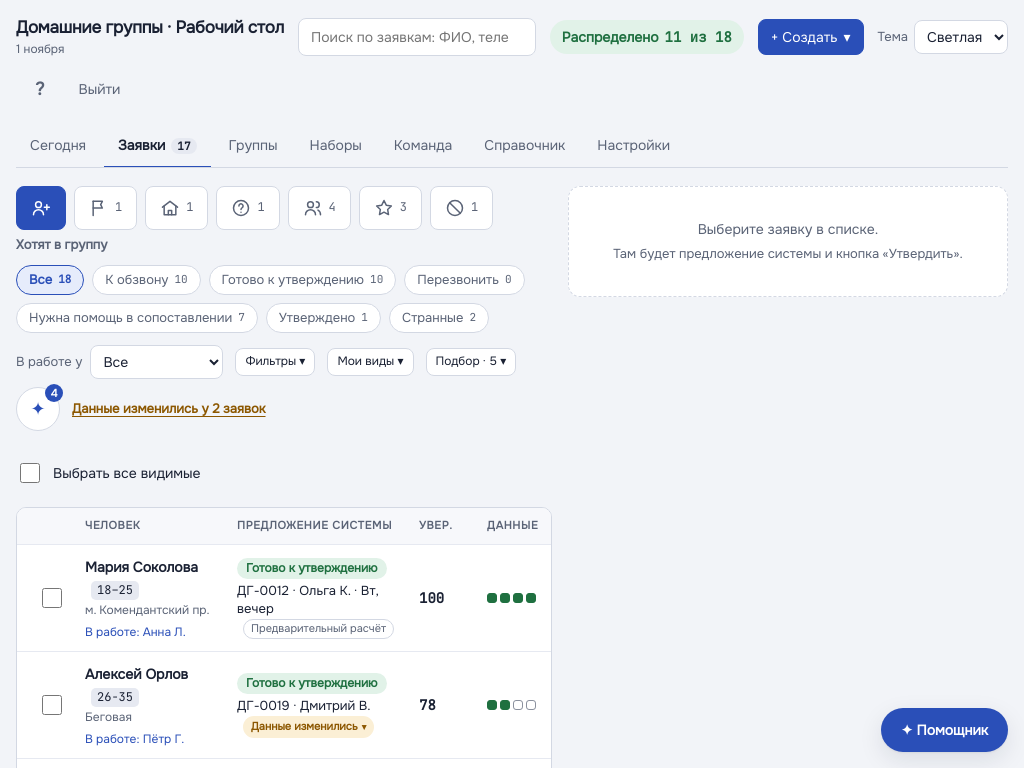
Scenario: «Мои виды» на «Заявках» › пустое имя не сохраняется и объясняется, поле не длиннее сорока знаков
Click the button "Мои виды ▾". click: [370, 362]
box: [327,348,414,376]
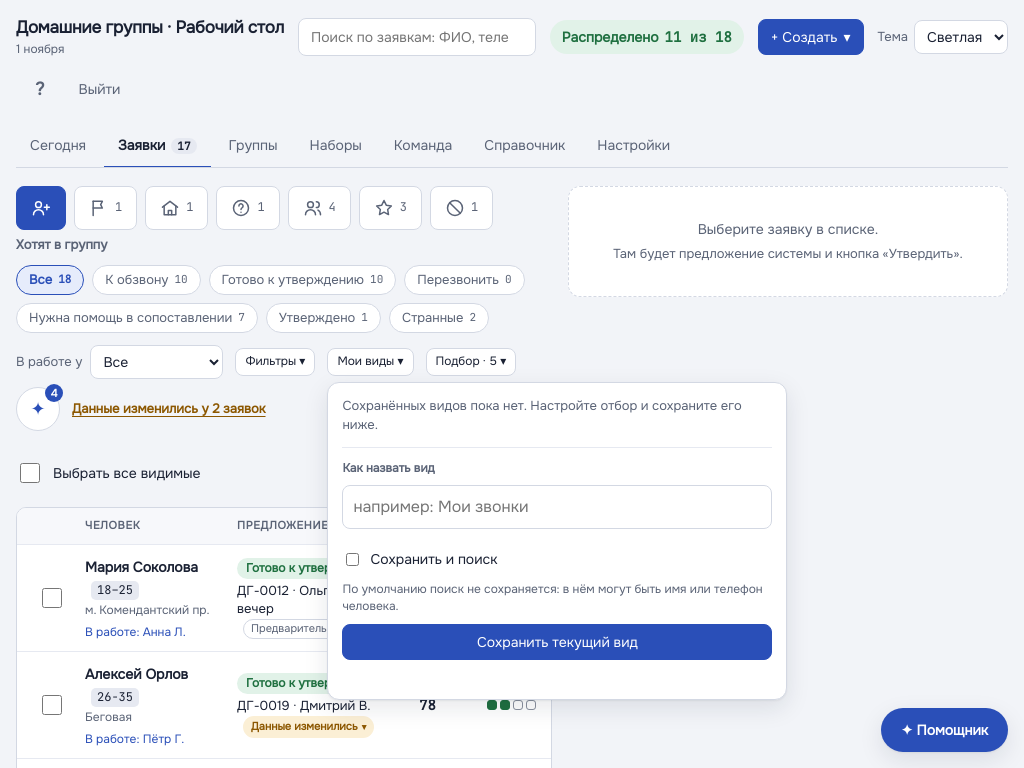
Click the button "Сохранить текущий вид". click: [557, 642]
box: [342,624,772,660]
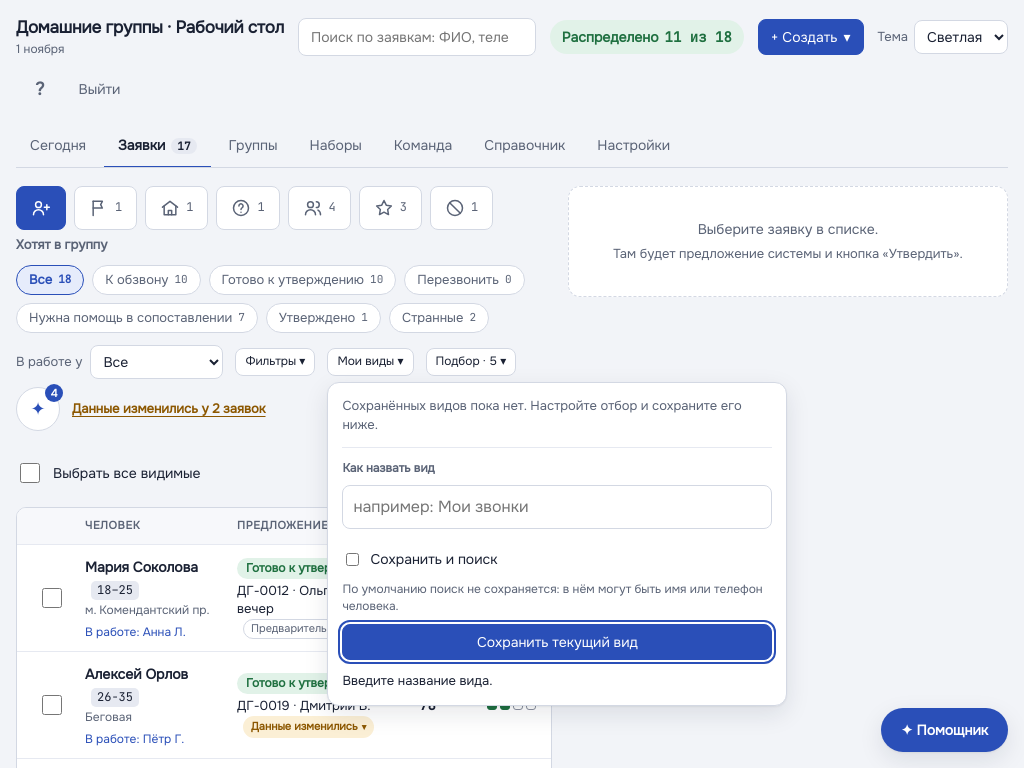
Expected: the message "Введите название вида." is shown, [342,672,493,689]
